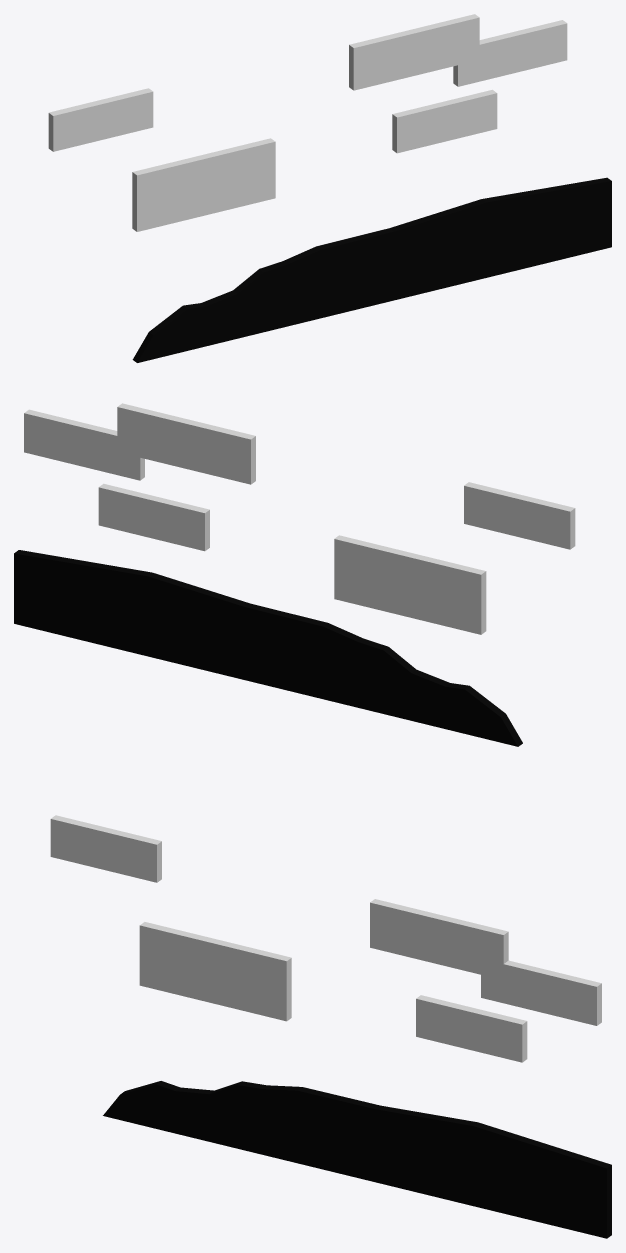
Rendered from background2.glb.
The picture shows the model from 3 angles, top to bottom: view 1: azimuth 30°, elevation 25°; view 2: azimuth 150°, elevation 25°; view 3: azimuth 330°, elevation 25°; orthographic projection. The views are drawn at different scales.
Visible parts, largest first — view 1: node_id8, node_id17, node_id20, node_id26, node_id23, node_id14; view 2: node_id8, node_id17, node_id20, node_id14, node_id23, node_id26; view 3: node_id8, node_id17, node_id20, node_id14, node_id26, node_id23.
Part boxes in pixels (bbox=[...]): node_id8: bbox=[132, 177, 611, 362]; node_id17: bbox=[132, 138, 275, 231]; node_id20: bbox=[349, 14, 479, 90]; node_id26: bbox=[48, 88, 153, 151]; node_id23: bbox=[392, 89, 497, 153]; node_id14: bbox=[453, 20, 567, 86]; node_id8: bbox=[14, 550, 522, 746]; node_id17: bbox=[334, 535, 486, 634]; node_id20: bbox=[117, 403, 255, 484]; node_id14: bbox=[24, 409, 144, 480]; node_id23: bbox=[98, 483, 209, 551]; node_id26: bbox=[464, 482, 575, 549]; node_id8: bbox=[103, 1081, 611, 1238]; node_id17: bbox=[139, 922, 291, 1021]; node_id20: bbox=[370, 899, 508, 980]; node_id14: bbox=[481, 960, 601, 1025]; node_id26: bbox=[50, 815, 161, 882]; node_id23: bbox=[416, 995, 527, 1062].
Size of the model in its own units: 0.512 by 0.2129 by 0.0342.
Materials: 8 (8 with a texture image).
